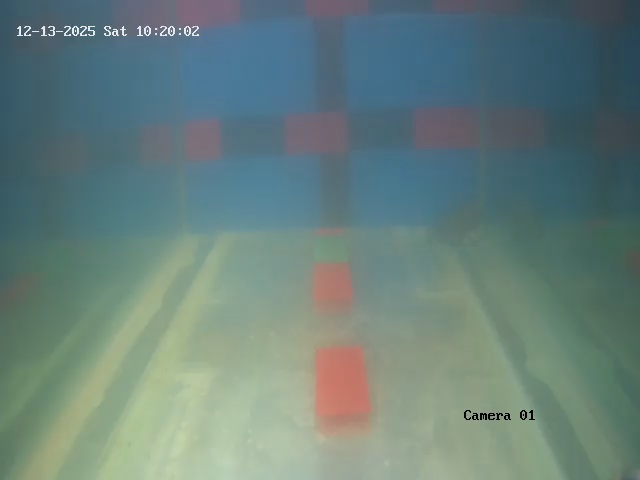fish: (434, 186, 483, 250)
